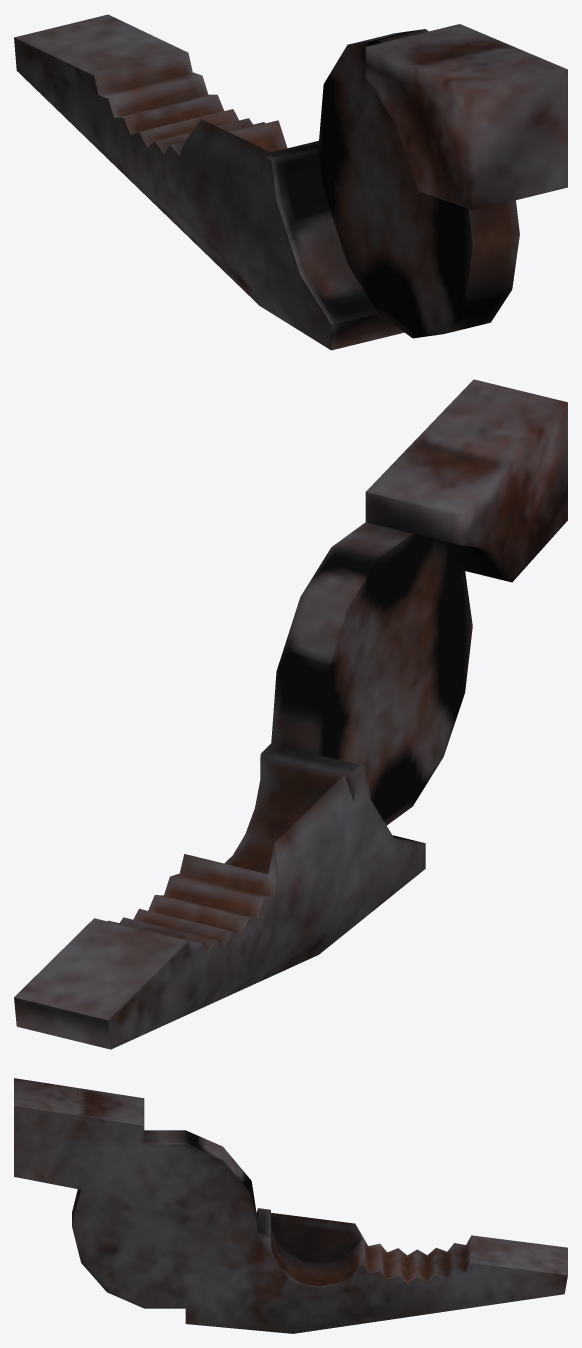
File: Pliers_Jaw_Right_low.obj
3 views of the same model, one above another, from view 1: azimuth 30°, elevation 25°; view 2: azimuth 150°, elevation 25°; view 3: azimuth 270°, elevation 25° (orthographic). The views are drawn at different scales.
Size of the model in its own units: 0.00595 by 0.0233 by 0.0502.
Materials: 1 (1 with a texture image).
